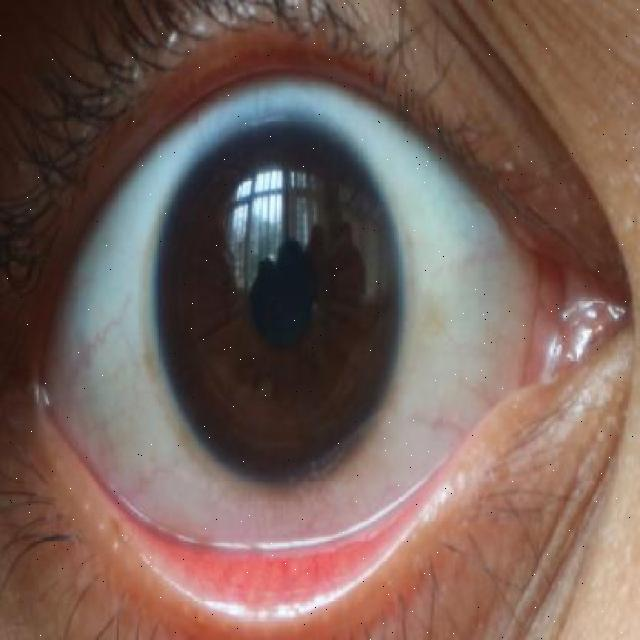Normal: (151, 108, 403, 481)
